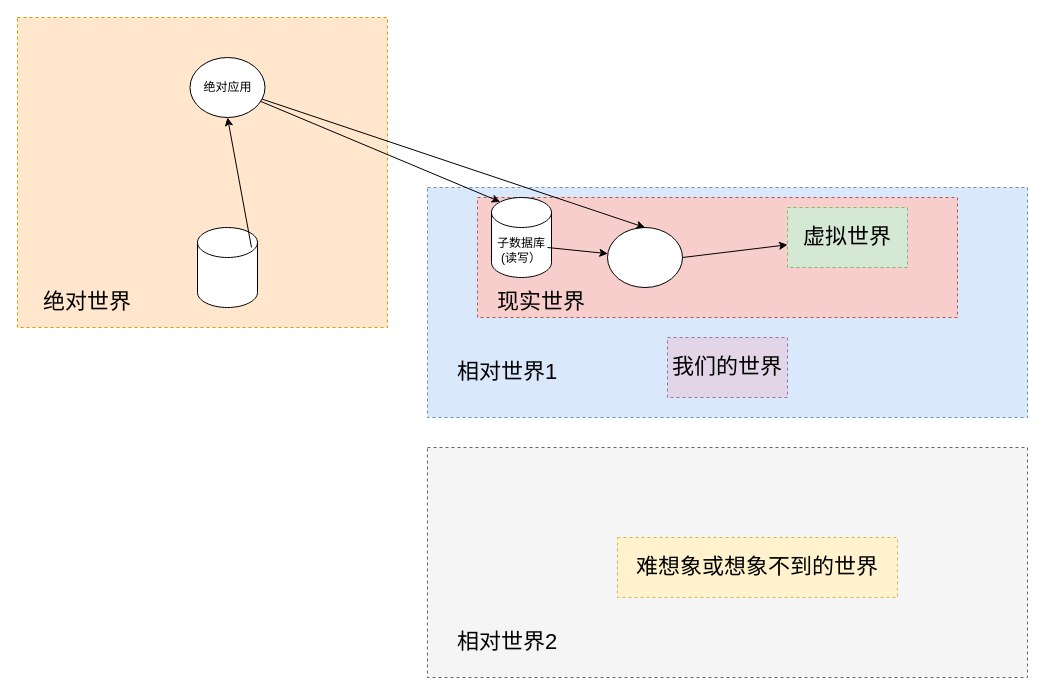
Image size: 1045x695. Some labels were removed from this diagram. The centre of each missing label's shape, as x and y in pixels:
"相对应用" goes at [644,257].
"绝对数据库(只读）" goes at [227,267].
